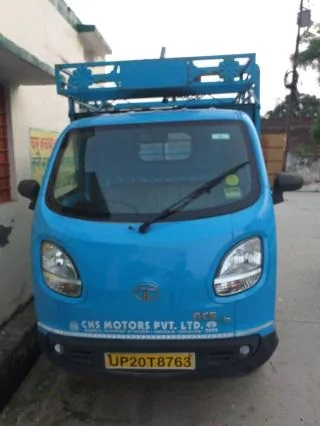Vehicle: (16, 49, 284, 384)
